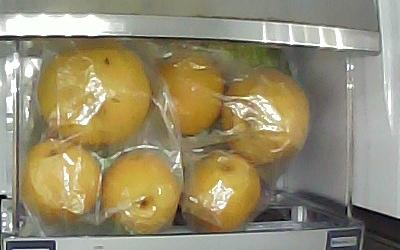pear_vinyl: (38, 46, 147, 146), (222, 68, 310, 168), (101, 148, 180, 235), (180, 151, 261, 232), (25, 140, 102, 223), (159, 50, 222, 133)
